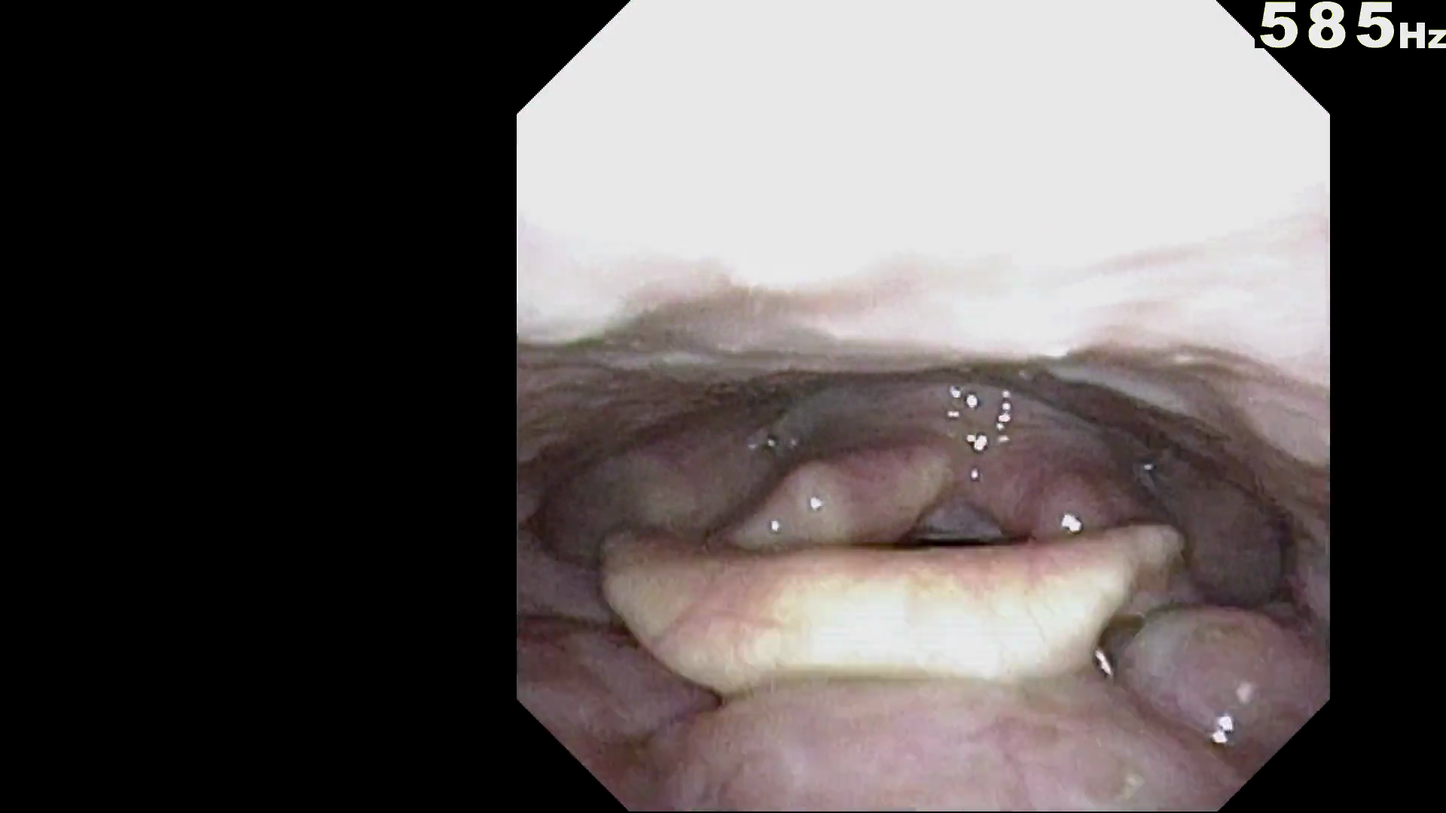epiglottis: (657, 620, 1199, 759)
trachea: (903, 543, 1032, 663)
